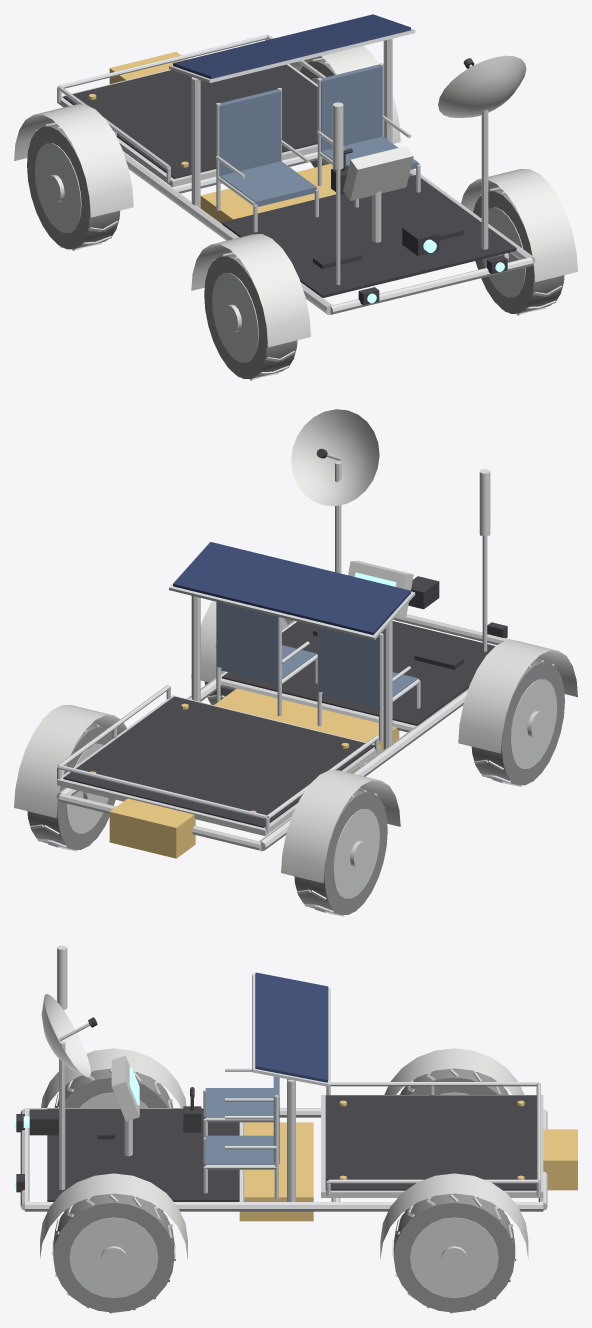
Rendered from rover.glb.
3 views of the same model, one above another, from view 1: azimuth 30°, elevation 25°; view 2: azimuth 150°, elevation 25°; view 3: azimuth 270°, elevation 25° (orthographic). The views are drawn at different scales.
Visible parts, largest first — view 1: chassis, wheel_RR, wheel_FR, wheel_FL, dish, wheel_RL; view 2: chassis, wheel_FR, wheel_RR, dish, wheel_RL; view 3: chassis, wheel_RL, wheel_FL, wheel_FR, dish, wheel_RR.
Part boxes in pixels (x1,y1,x2,y2): chassis: [14, 14, 577, 347]; wheel_RR: [27, 122, 120, 250]; wheel_FR: [204, 252, 297, 380]; wheel_FL: [473, 187, 564, 315]; dish: [438, 55, 526, 117]; wheel_RL: [300, 57, 336, 167]; chassis: [14, 461, 577, 883]; wheel_FR: [471, 658, 564, 786]; wheel_RR: [294, 788, 387, 916]; dish: [291, 409, 379, 506]; wheel_RL: [27, 723, 115, 851]; chassis: [14, 945, 577, 1259]; wheel_RL: [392, 1193, 516, 1313]; wheel_FL: [52, 1193, 175, 1313]; wheel_FR: [54, 1068, 172, 1107]; dish: [41, 994, 97, 1077]; wheel_RR: [398, 1068, 508, 1094].
Bounding box in the file's own units: 2.32 × 2.09 × 3.81.
